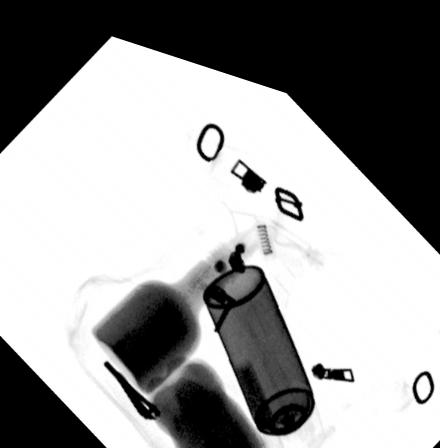Sprayer: (198, 244, 334, 448)
